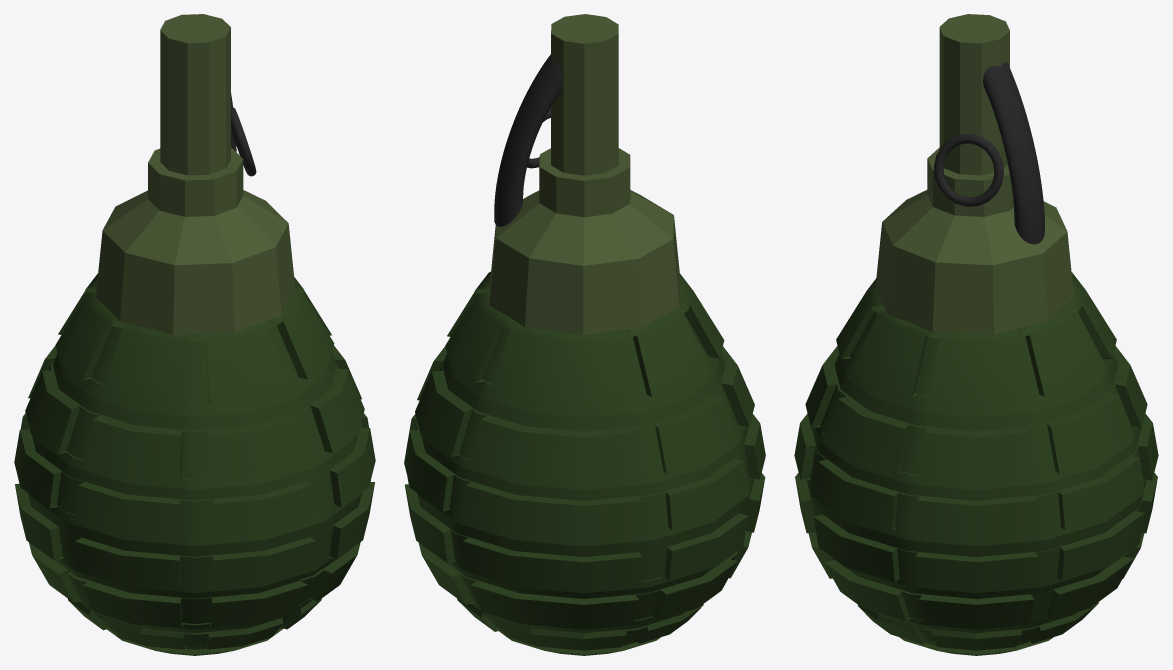
The model's file is garnade.fbx.
3 views of the same model, side by side, from view 1: azimuth 30°, elevation 25°; view 2: azimuth 150°, elevation 25°; view 3: azimuth 270°, elevation 25° (orthographic).
Visible parts, largest first — view 1: pSphere2, polySurface2, pTorus1; view 2: pSphere2, polySurface2, pCylinder1; view 3: pSphere2, polySurface2, pCylinder1, pTorus1.
Boxes of the visible parts, x1=… form: pSphere2: x1=14, y1=273, x2=375, y2=655; polySurface2: x1=95, y1=14, x2=295, y2=335; pTorus1: x1=231, y1=106, x2=256, y2=176; pSphere2: x1=404, y1=271, x2=765, y2=655; polySurface2: x1=489, y1=14, x2=680, y2=335; pCylinder1: x1=494, y1=54, x2=562, y2=226; pSphere2: x1=794, y1=272, x2=1158, y2=655; polySurface2: x1=875, y1=14, x2=1074, y2=338; pCylinder1: x1=983, y1=62, x2=1044, y2=244; pTorus1: x1=934, y1=134, x2=1003, y2=206.
Size of the model in its own units: 103 by 193 by 104.
